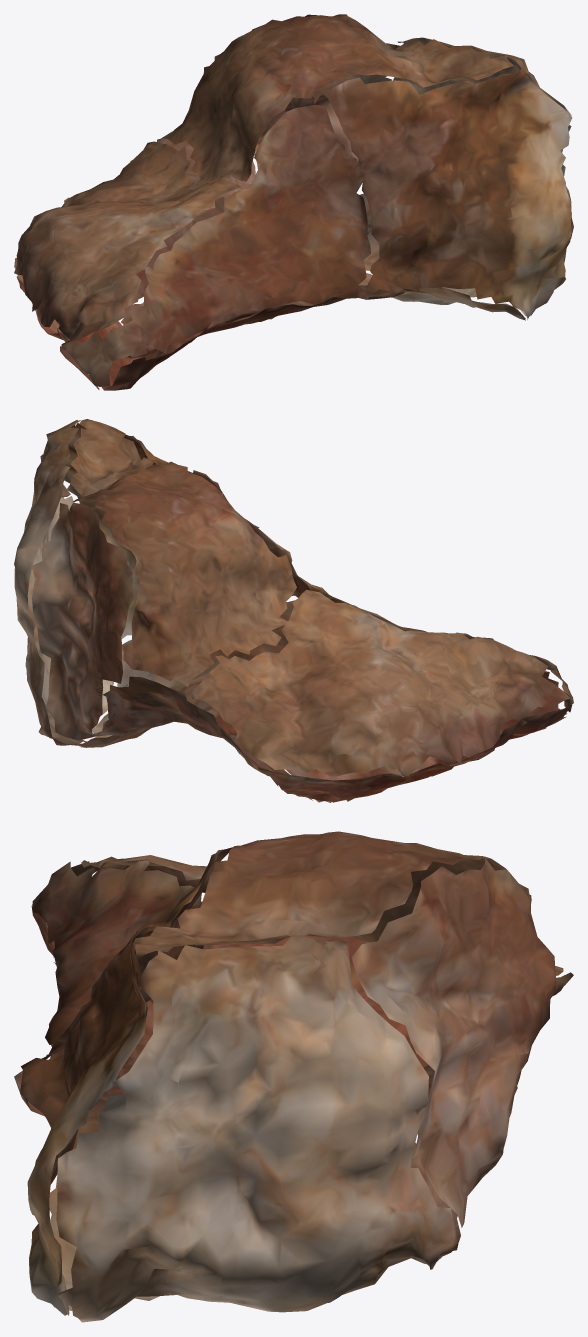
The model's file is stone-01.glb.
3 renders of one model, top to bottom at view 1: azimuth 30°, elevation 25°; view 2: azimuth 150°, elevation 25°; view 3: azimuth 270°, elevation 25°, orthographic. The views are drawn at different scales.
Parts seen in each view (by area): view 1: stone_01; view 2: stone_01; view 3: stone_01.
Boxes of the visible parts, x1,y1,x2,y2 form: stone_01: [14, 14, 573, 390]; stone_01: [14, 419, 573, 802]; stone_01: [14, 831, 573, 1322].
Bounding box in the file's own units: 0.1458 × 0.0712 × 0.0888.
Materials: 1 (1 with a texture image).
